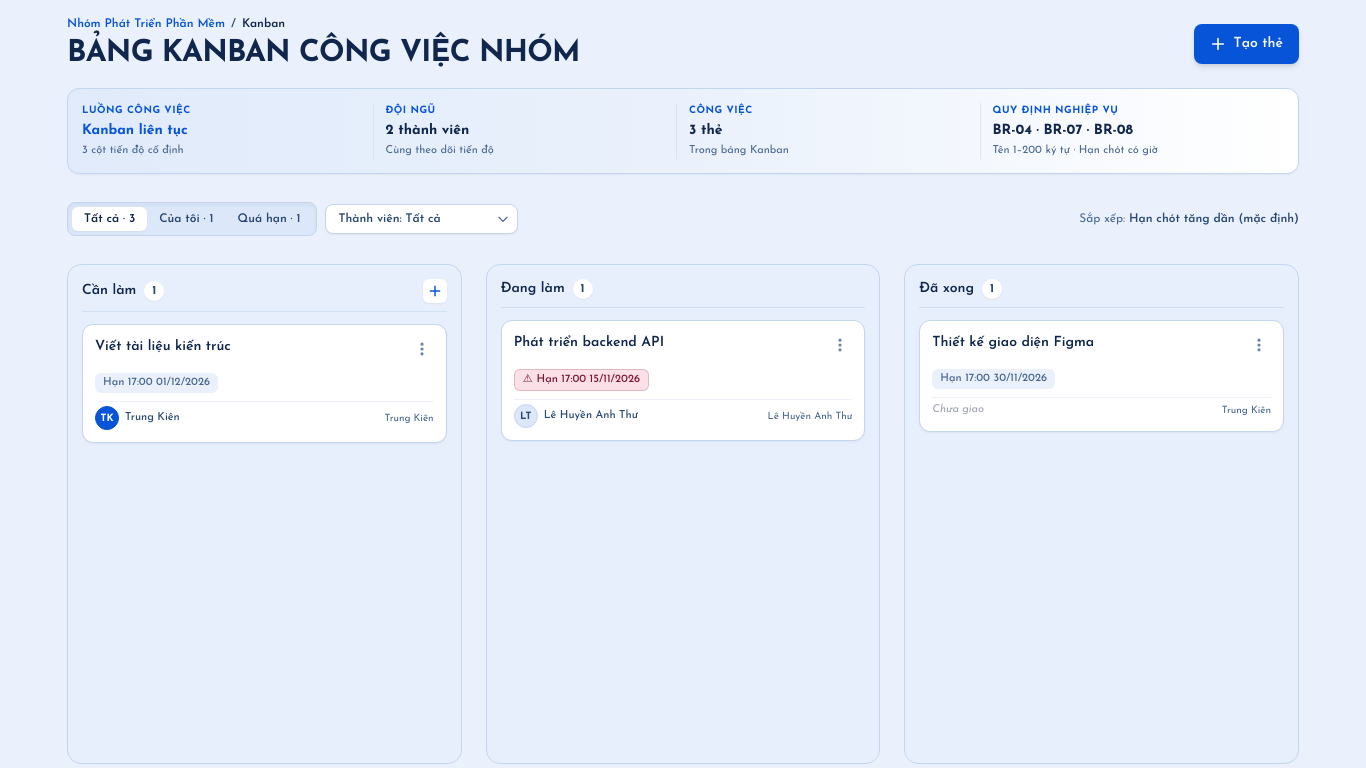
Scenario: KanbanPage Integration Tests › TC-KB-06: Rollback trạng thái khi API updateStatus gặp lỗi
Expected: the heading "Viết tài liệu kiến trúc" is shown, x1=95 y1=339 x2=231 y2=354
Click the button named "Thao tác thẻ Viết tài liệu kiến trúc" at (422, 349), box x1=410 y1=337 x2=434 y2=361
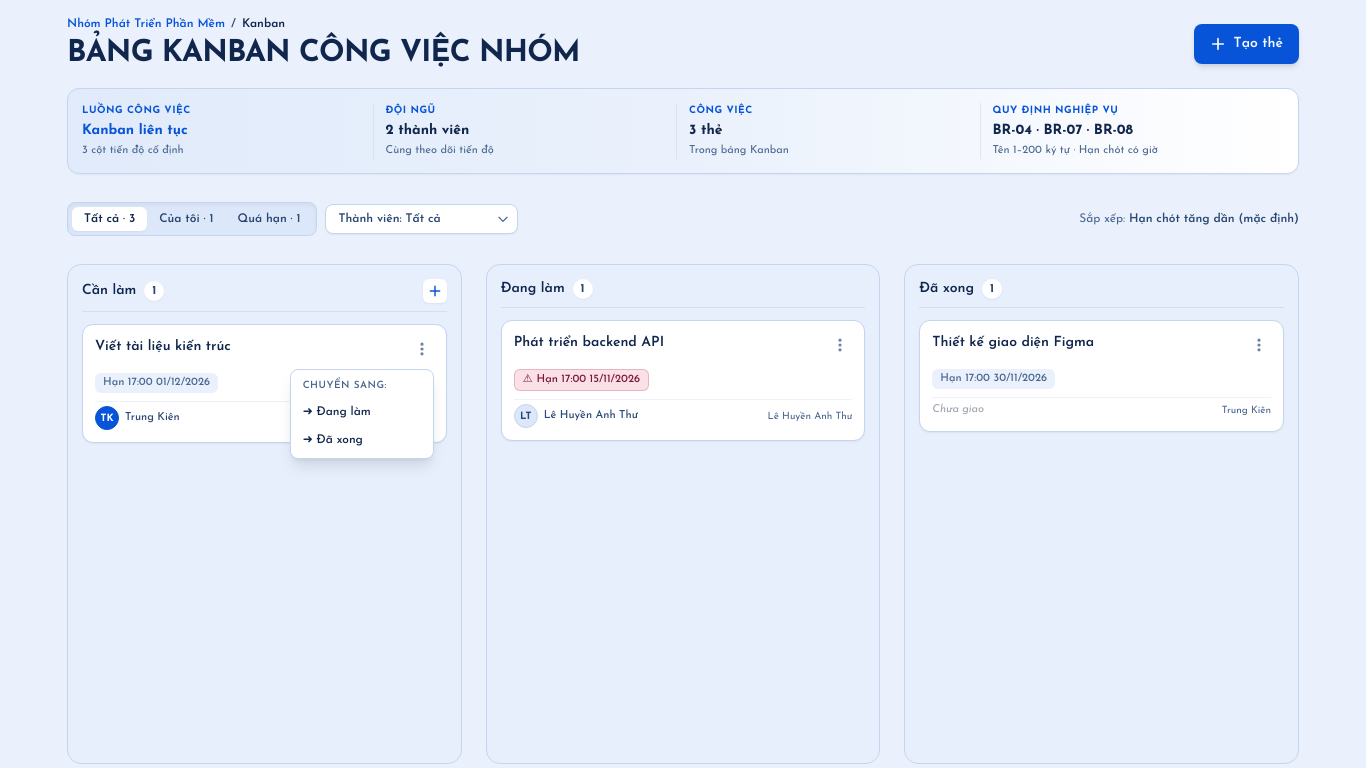
Click the button "➜ Đã xong" at (362, 440), box x1=291 y1=426 x2=433 y2=454
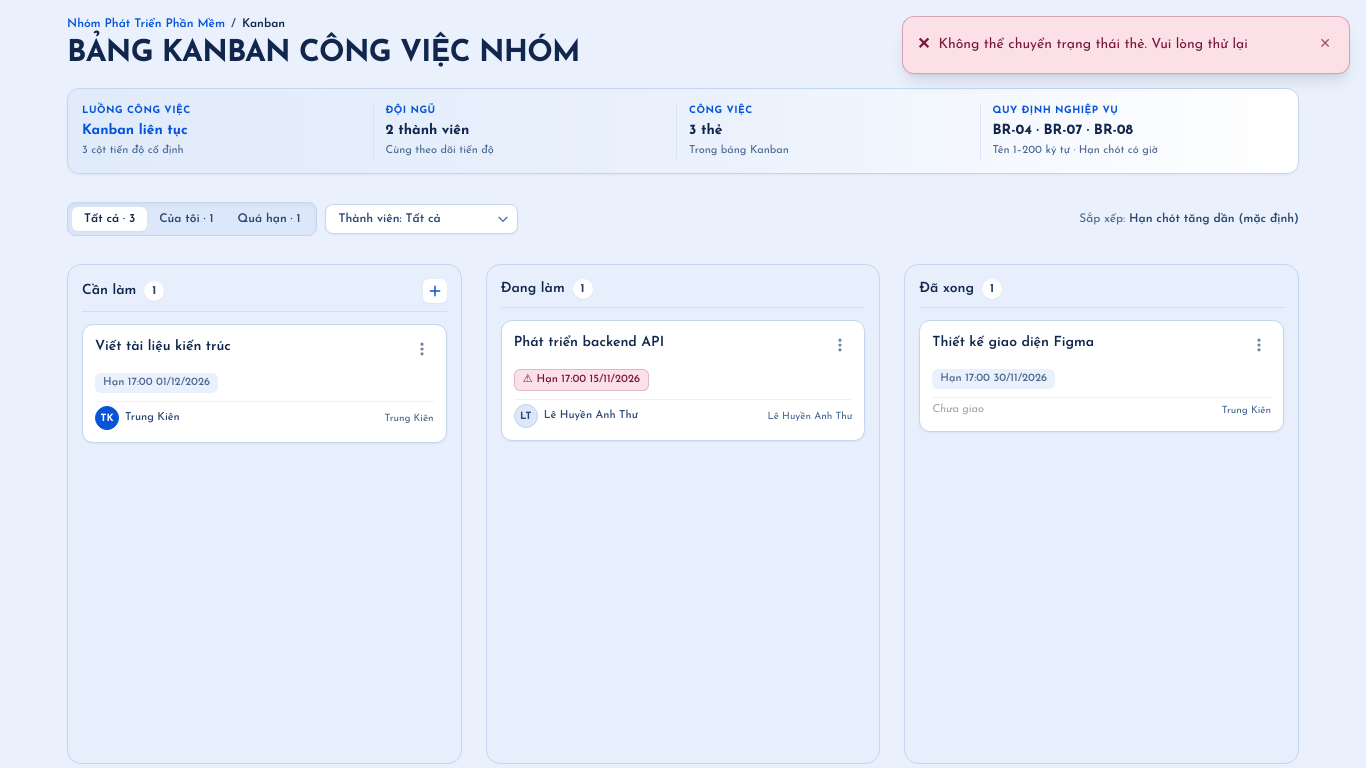
Result: the text "Không thể chuyển trạng thái thẻ. Vui lòng thử lại" is shown at x1=938 y1=35 x2=1248 y2=55
